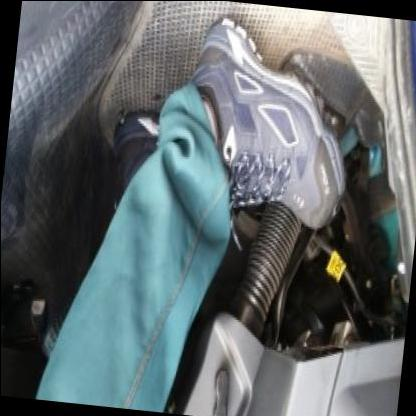safety-shoe: (171, 4, 374, 248)
